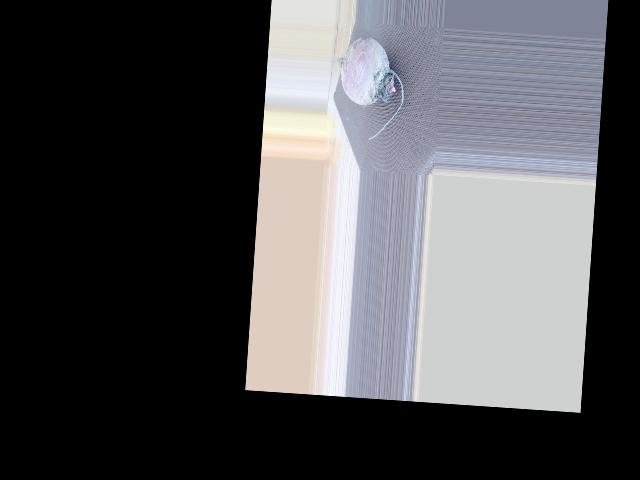beet: (325, 34, 408, 141)
